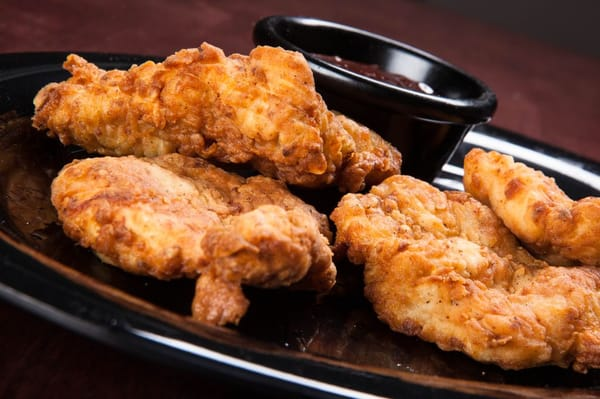sushi: (252, 15, 499, 187)
